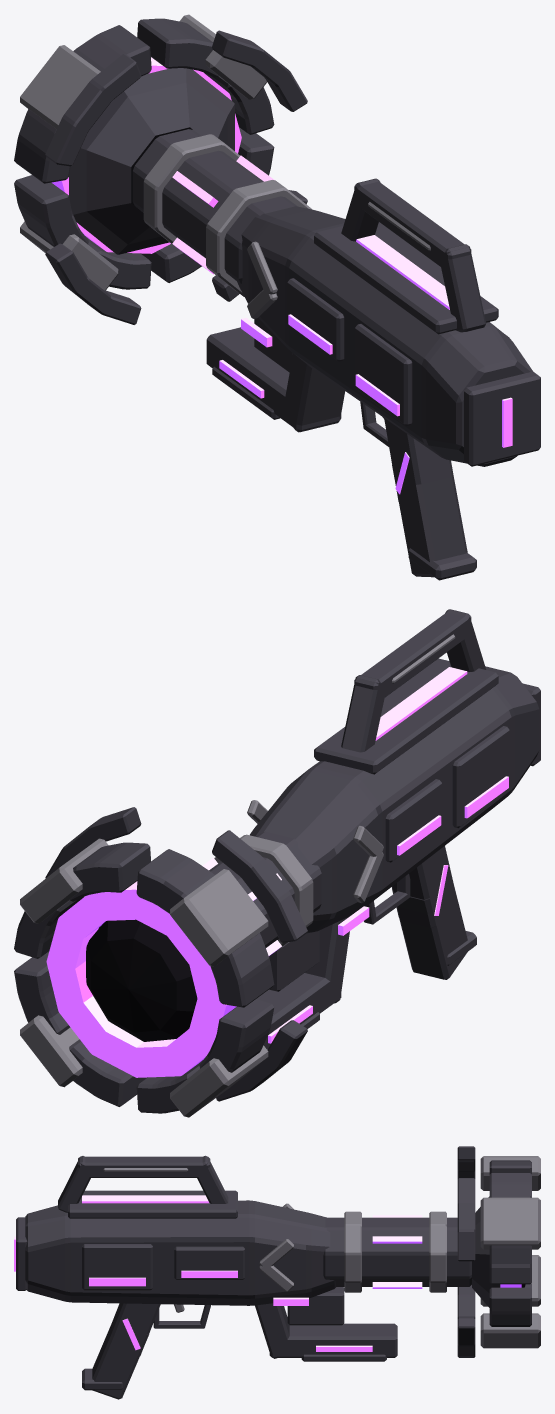
File: gravigun.glb
3 views of the same model, one above another, from view 1: azimuth 30°, elevation 25°; view 2: azimuth 150°, elevation 25°; view 3: azimuth 270°, elevation 25° (orthographic). The views are drawn at different scales.
Parts seen in each view (by area): view 1: Gravigun; view 2: Gravigun; view 3: Gravigun.
Boxes of the visible parts, x1=… form: Gravigun: x1=14, y1=14, x2=540, y2=580; Gravigun: x1=14, y1=609, x2=540, y2=1117; Gravigun: x1=14, y1=1146, x2=540, y2=1399.
Size of the model in its own units: 0.2799 by 0.3671 by 0.7435.
